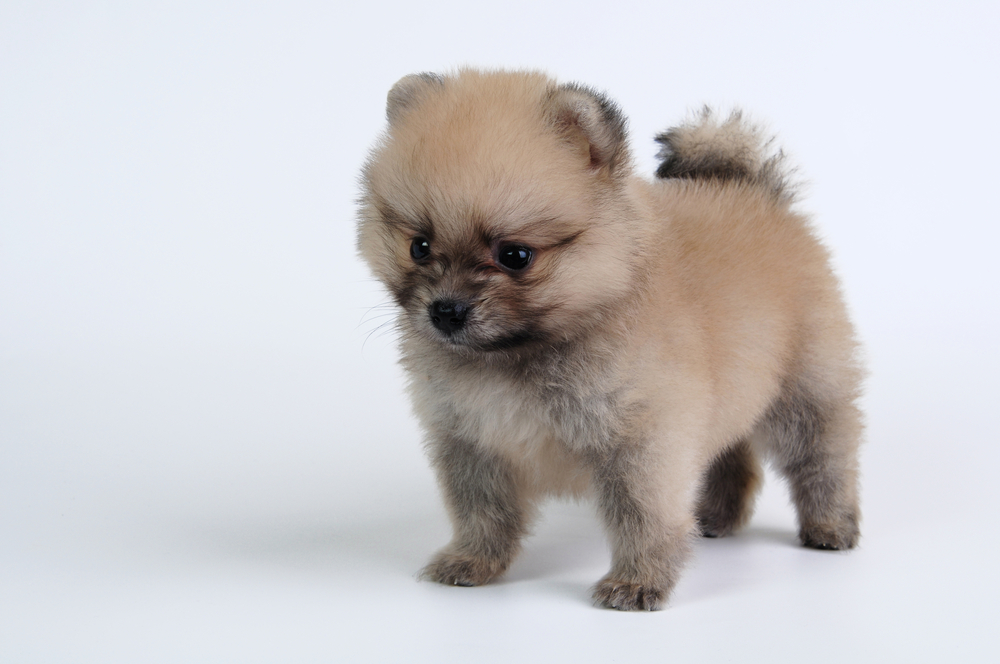pomeranian: (341, 49, 897, 635)
